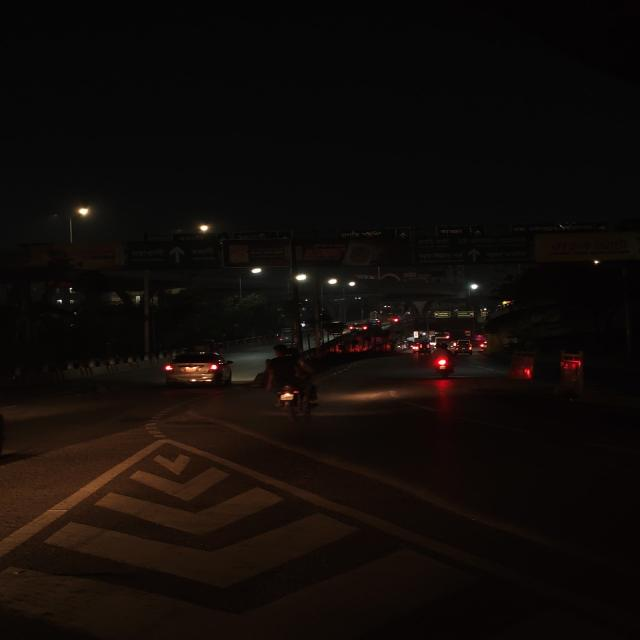car: (160, 349, 238, 389), (451, 339, 474, 356)
motorcycle: (270, 366, 324, 422), (426, 343, 457, 379)
